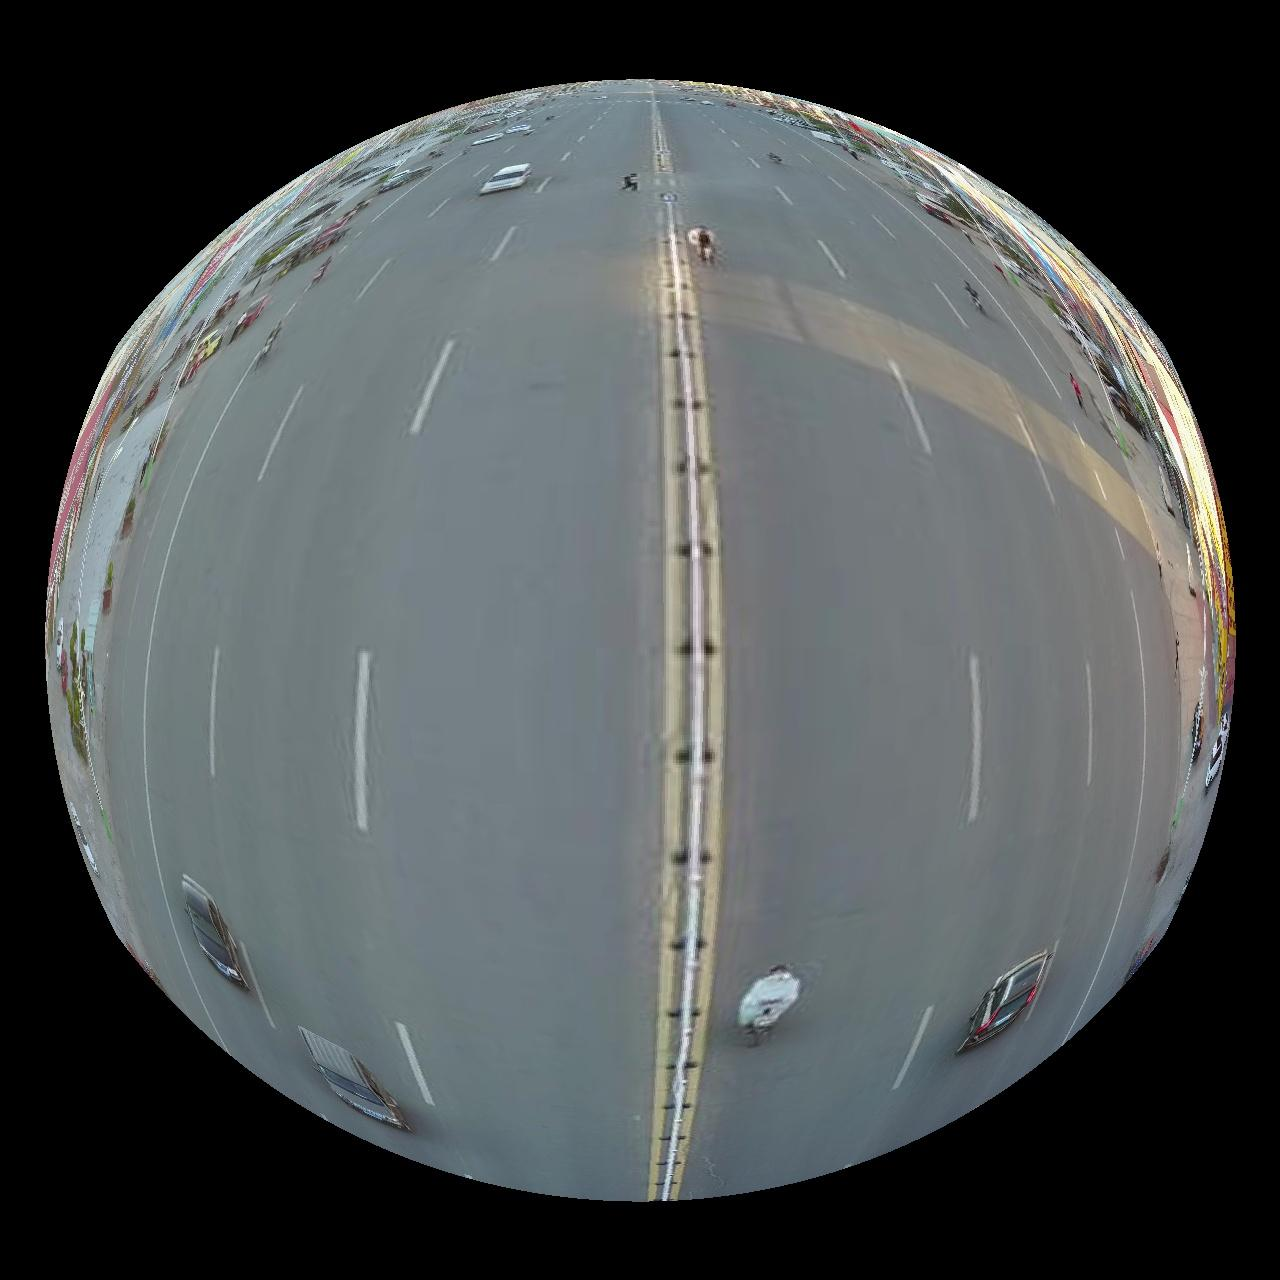cars: (297, 1029, 409, 1132), (958, 952, 1051, 1055), (182, 876, 247, 990), (479, 162, 531, 193)
